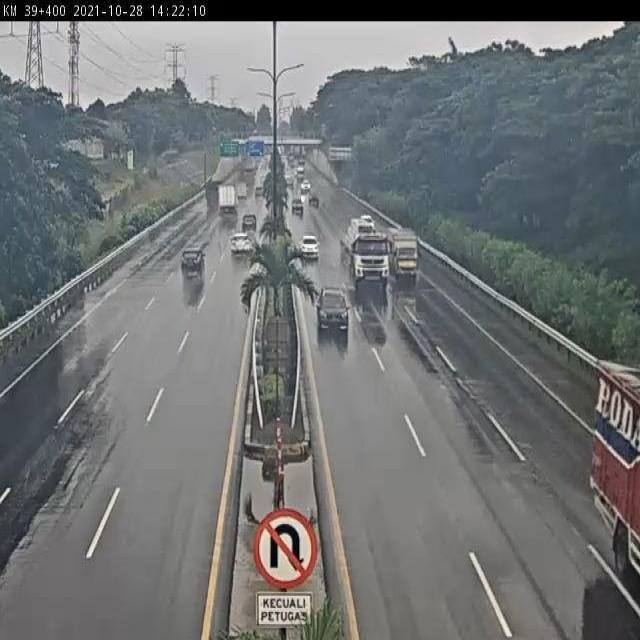car: (315, 280, 349, 335), (180, 246, 206, 282), (297, 232, 322, 263), (227, 231, 253, 260), (239, 212, 260, 233)
truck: (338, 212, 392, 289), (385, 223, 422, 287)
